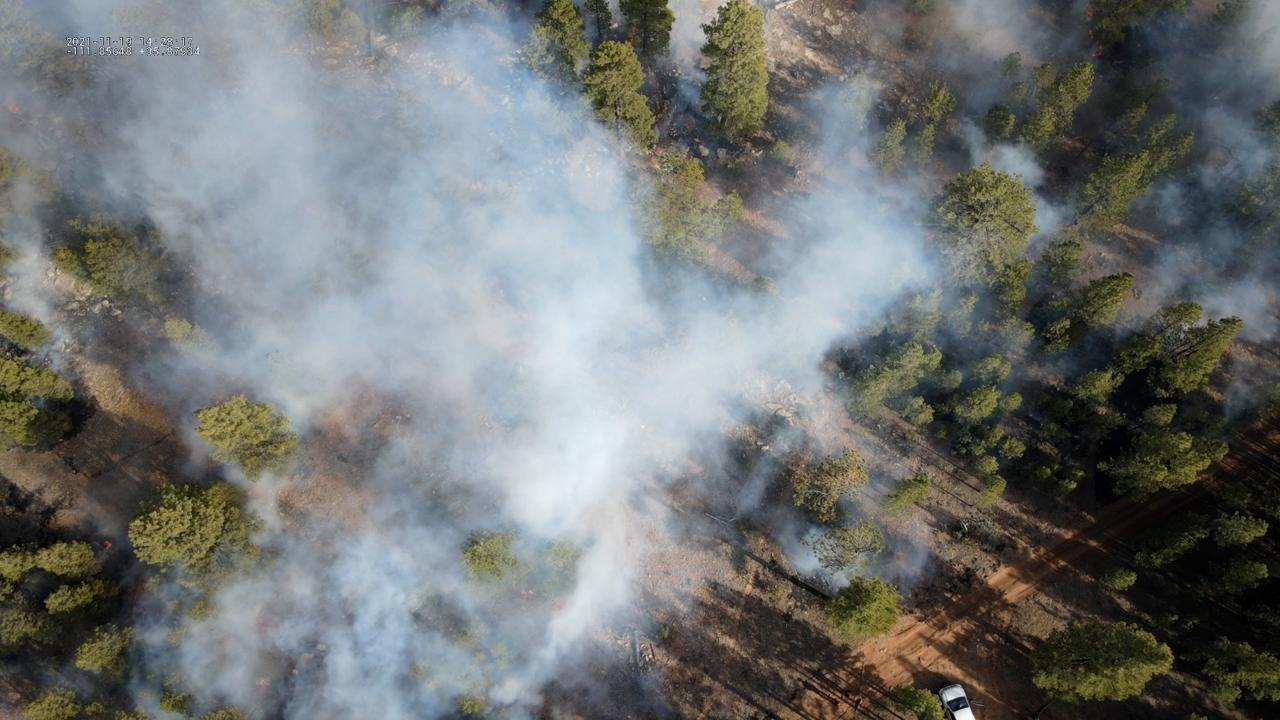fire: (627, 25, 640, 44), (924, 230, 936, 241), (103, 539, 113, 550)
smoke: (0, 0, 1280, 720)
